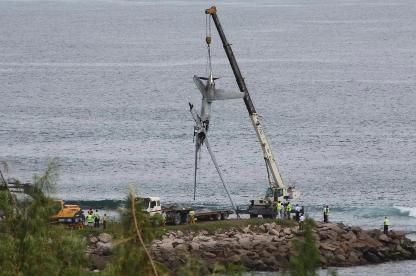MQ9: (188, 74, 244, 216)
